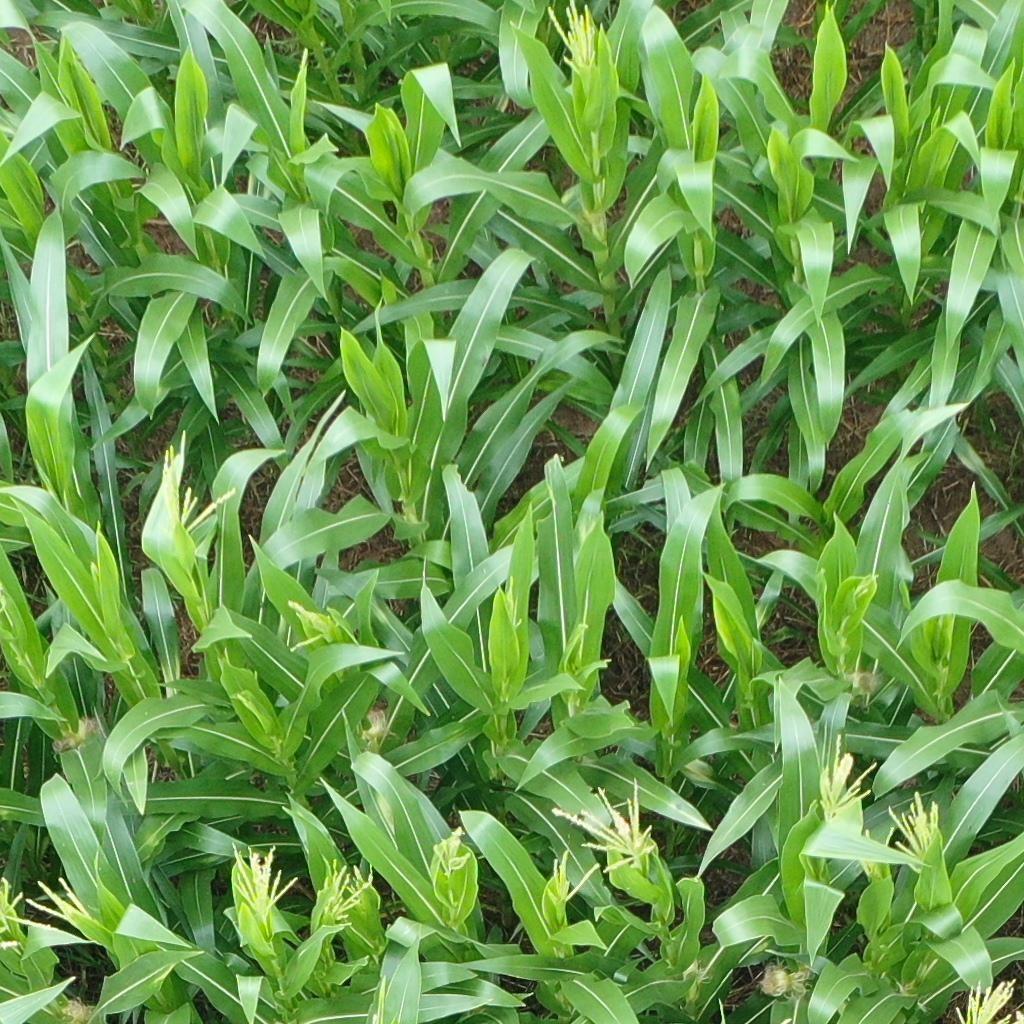Tassel: (552, 772, 660, 907), (154, 427, 234, 546), (1, 869, 107, 951), (810, 727, 876, 822), (222, 839, 296, 920), (314, 855, 373, 937), (889, 787, 944, 871), (543, 1, 604, 75), (286, 601, 359, 651), (956, 975, 1024, 1024), (562, 628, 617, 688), (430, 823, 475, 874), (496, 575, 526, 631), (854, 571, 879, 601)
